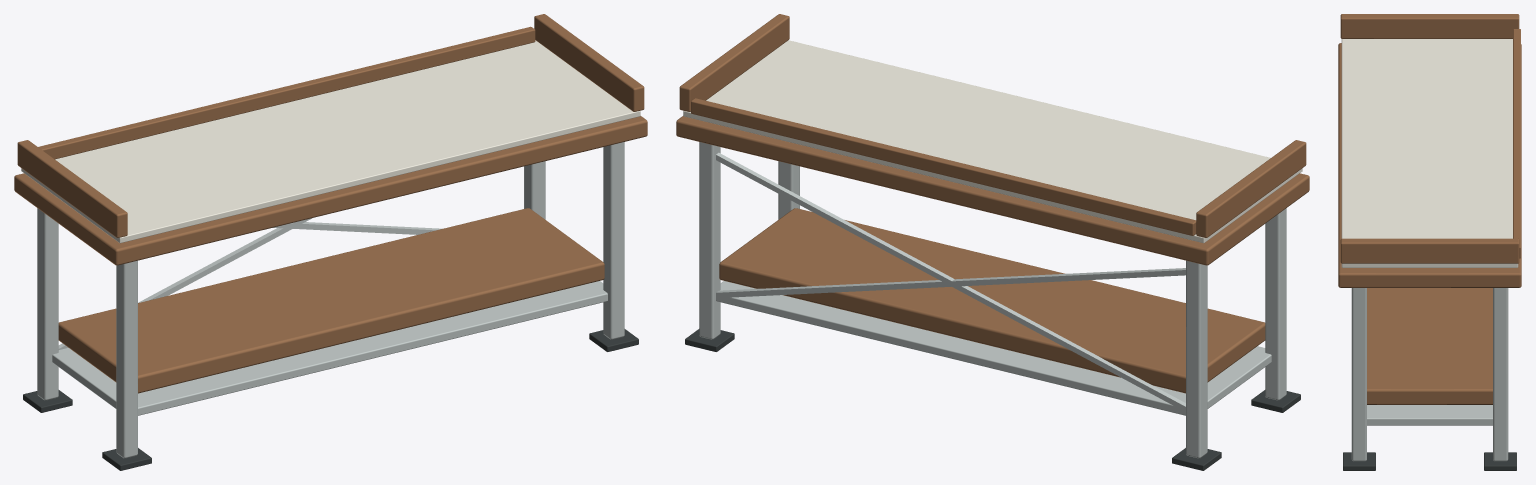
The model's file is tea-garden-and-processing-house-tea-garden-and-process-20a5688f__30788.glb.
3 renders of one model, left to right at view 1: azimuth 30°, elevation 25°; view 2: azimuth 150°, elevation 25°; view 3: azimuth 270°, elevation 25°, orthographic. The views are drawn at different scales.
Parts seen in each view (by area): view 1: tea-garden-and-processing-house-tasting-bench; view 2: tea-garden-and-processing-house-tasting-bench; view 3: tea-garden-and-processing-house-tasting-bench.
Part boxes in pixels (left/top/right/bottom): tea-garden-and-processing-house-tasting-bench: left=14, top=14, right=647, bottom=470; tea-garden-and-processing-house-tasting-bench: left=676, top=14, right=1309, bottom=470; tea-garden-and-processing-house-tasting-bench: left=1338, top=14, right=1521, bottom=470.
Bounding box in the file's own units: 2.33 × 1.08 × 0.78.
